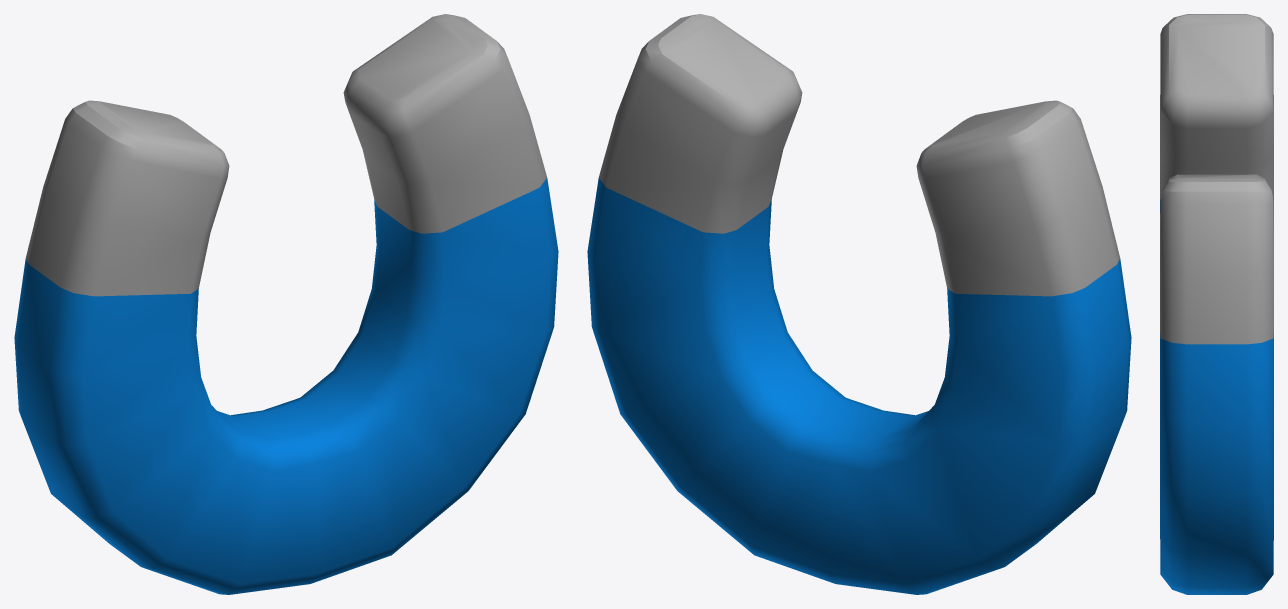
The model's file is Magnet_V2_0.fbx.
3 views of the same model, side by side, from view 1: azimuth 30°, elevation 25°; view 2: azimuth 150°, elevation 25°; view 3: azimuth 270°, elevation 25° (orthographic). The views are drawn at different scales.
Visible parts, largest first — view 1: Magnet_V2_0; view 2: Magnet_V2_0; view 3: Magnet_V2_0.
Part boxes in pixels (x1=…): Magnet_V2_0: x1=14, y1=14, x2=558, y2=594; Magnet_V2_0: x1=587, y1=14, x2=1131, y2=594; Magnet_V2_0: x1=1160, y1=14, x2=1273, y2=594.
Size of the model in its own units: 0.4506 by 0.4251 by 0.0939.
